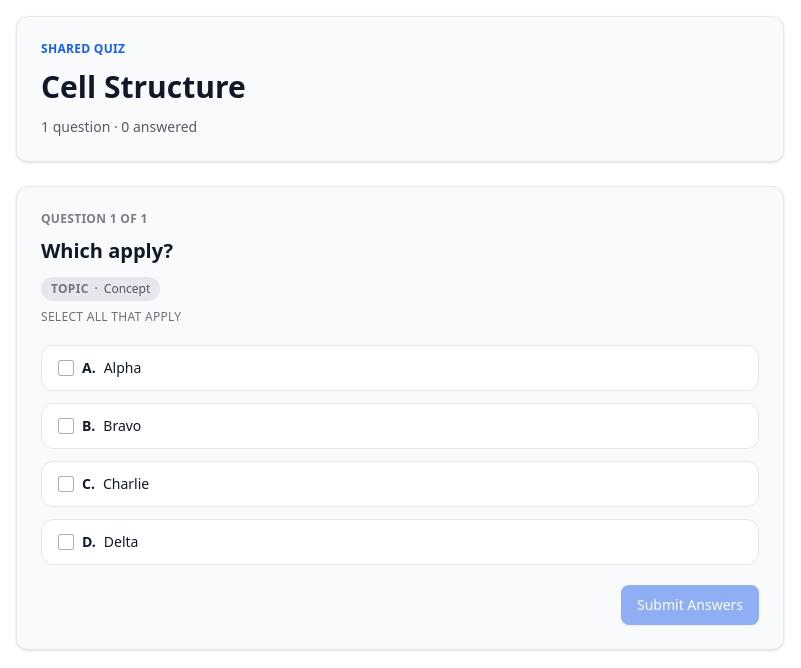
Test: shared quiz page › keeps Submit disabled until a MULTI_SELECT question has at least one selection
Expected: the text "Select all that apply" is shown, [41, 308, 181, 325]
Expected: the button "Submit Answers" is disabled, [621, 585, 759, 625]
What coordinates should you click on to do the following:
click the button "B.Bravo"
I would click on:
 (122, 426)
Its box is [41, 403, 759, 449].
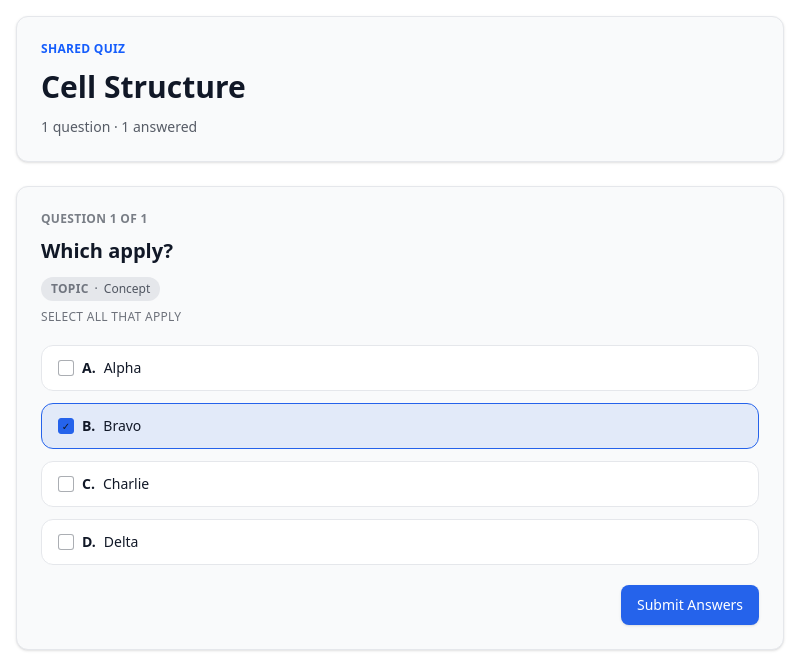
Now the button "Submit Answers" is enabled, box [621, 585, 759, 625]
